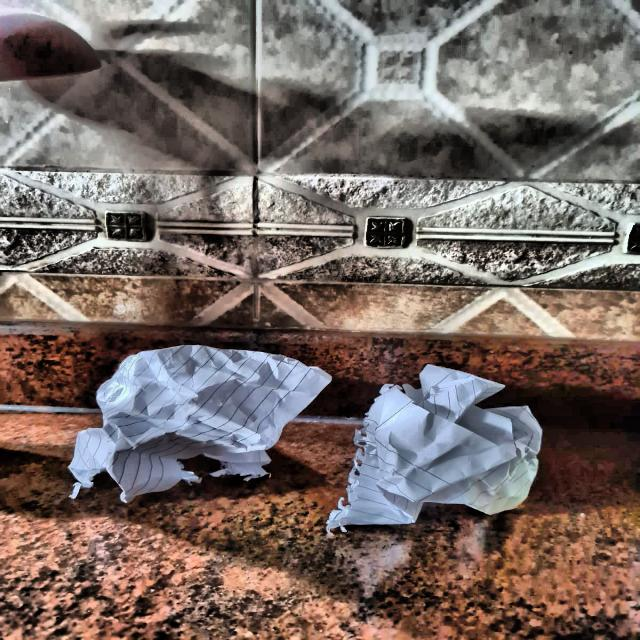Paper: (68, 336, 313, 496), (353, 358, 540, 526)
